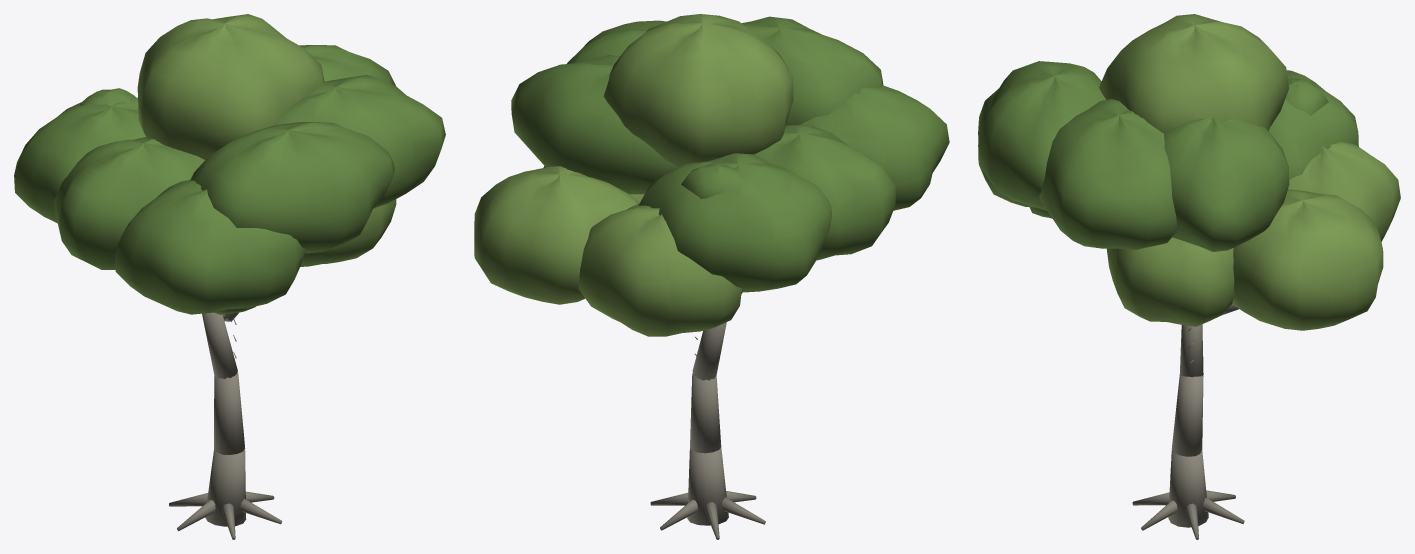
File: beech_canopy_6.glb
3 views of the same model, side by side, from view 1: azimuth 30°, elevation 25°; view 2: azimuth 150°, elevation 25°; view 3: azimuth 270°, elevation 25° (orthographic).
Parts seen in each view (by area): view 1: beech_canopy_6_painted_export; view 2: beech_canopy_6_painted_export; view 3: beech_canopy_6_painted_export.
Boxes of the visible parts, x1,y1,x2,y2 form: beech_canopy_6_painted_export: [14, 14, 445, 539]; beech_canopy_6_painted_export: [474, 14, 949, 539]; beech_canopy_6_painted_export: [978, 14, 1400, 539].
Size of the model in its own units: 14.03 by 18.74 by 14.48.
